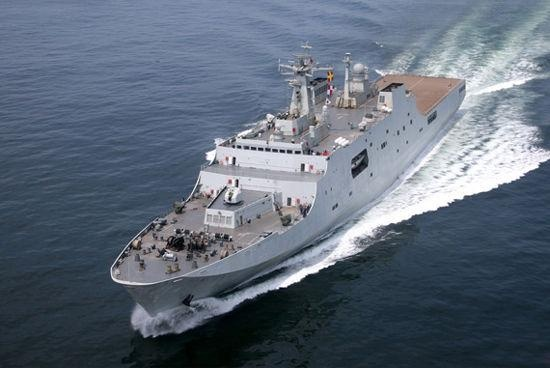warship: (108, 43, 472, 322)
